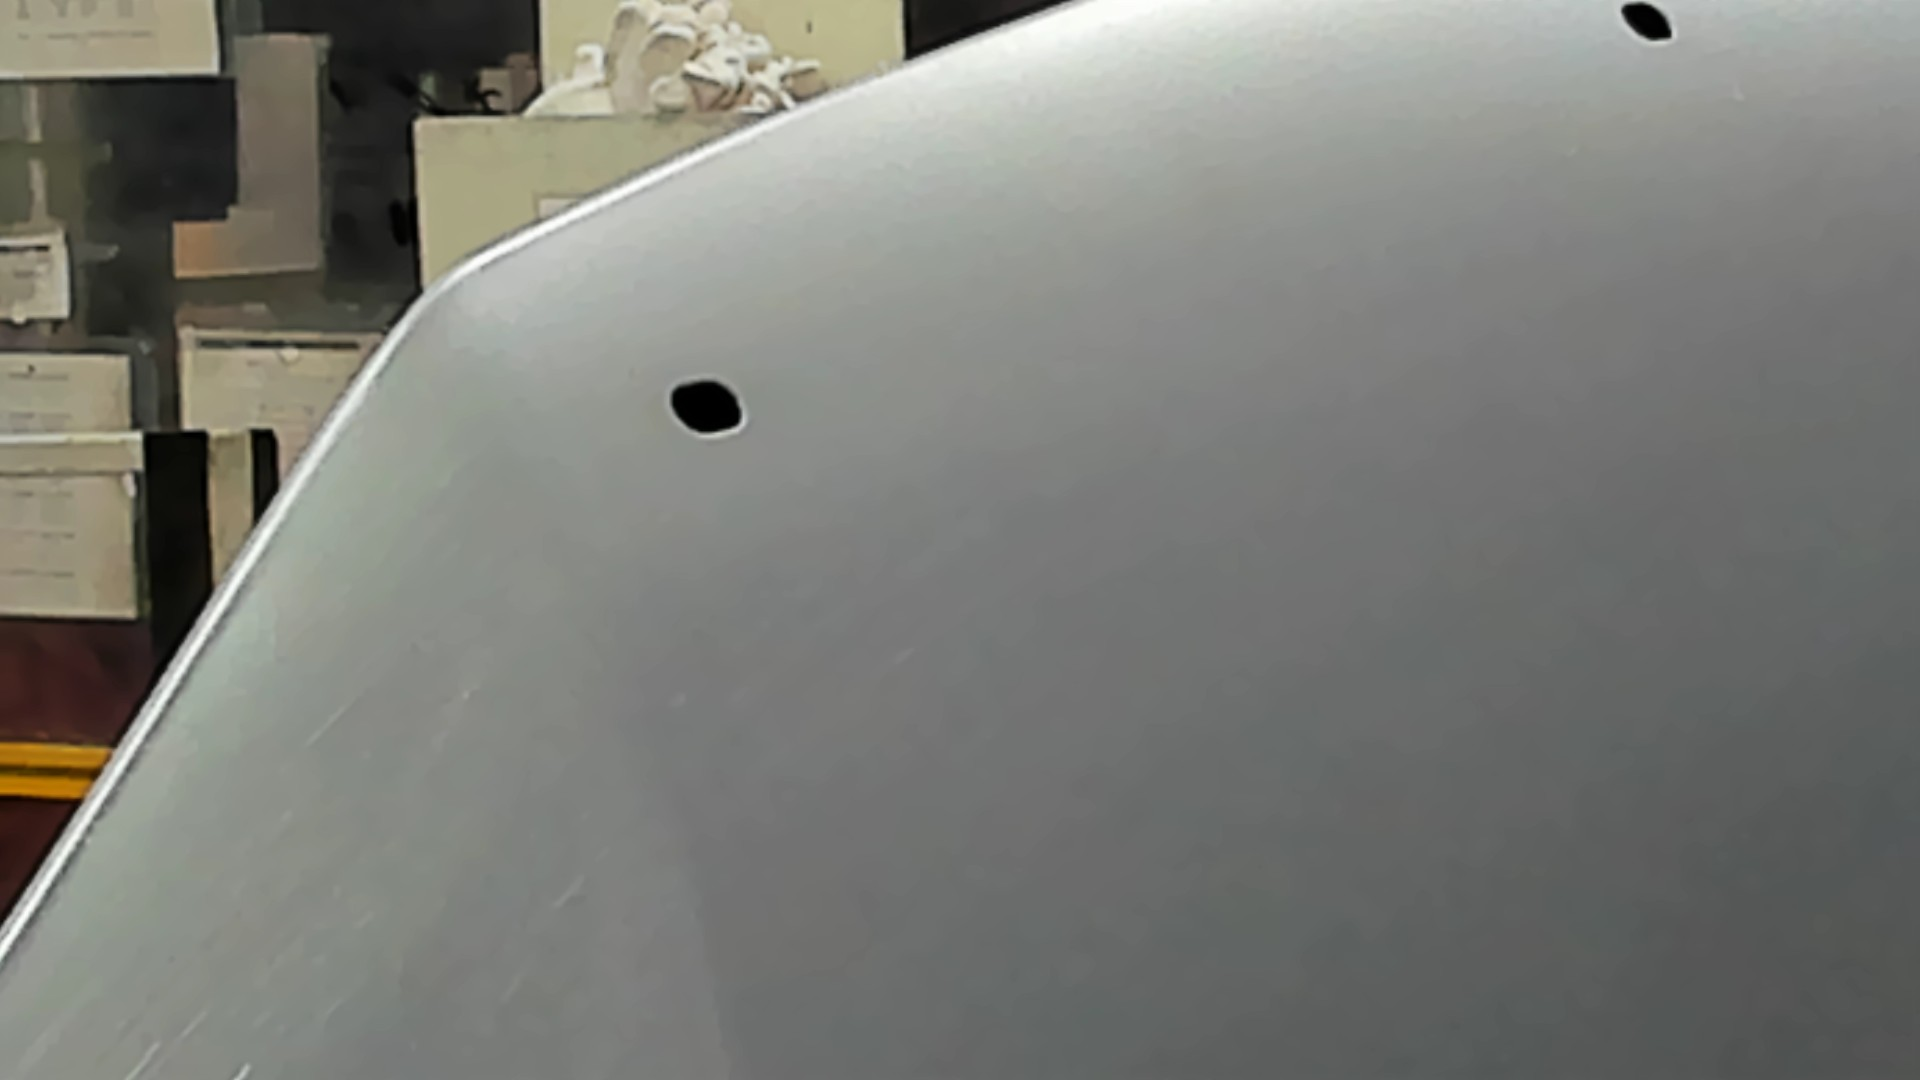amorfo: (654, 372, 760, 446), (1615, 1, 1680, 50)
capo: (848, 146, 1920, 1080)
